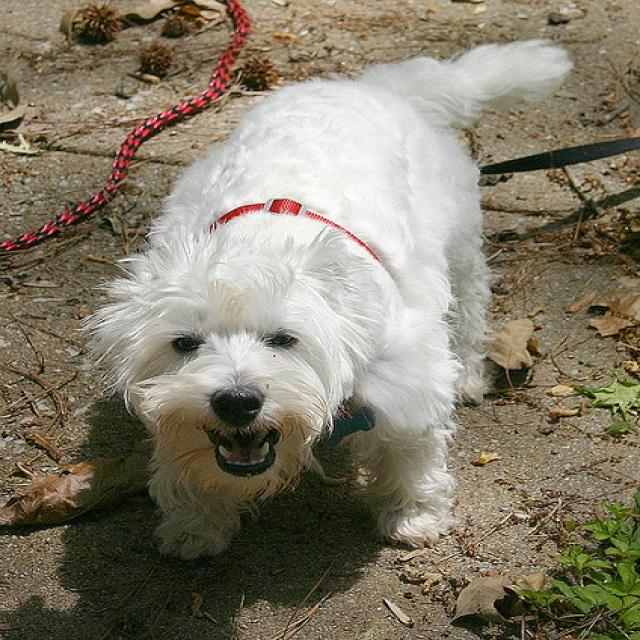dog: (103, 245, 380, 488)
